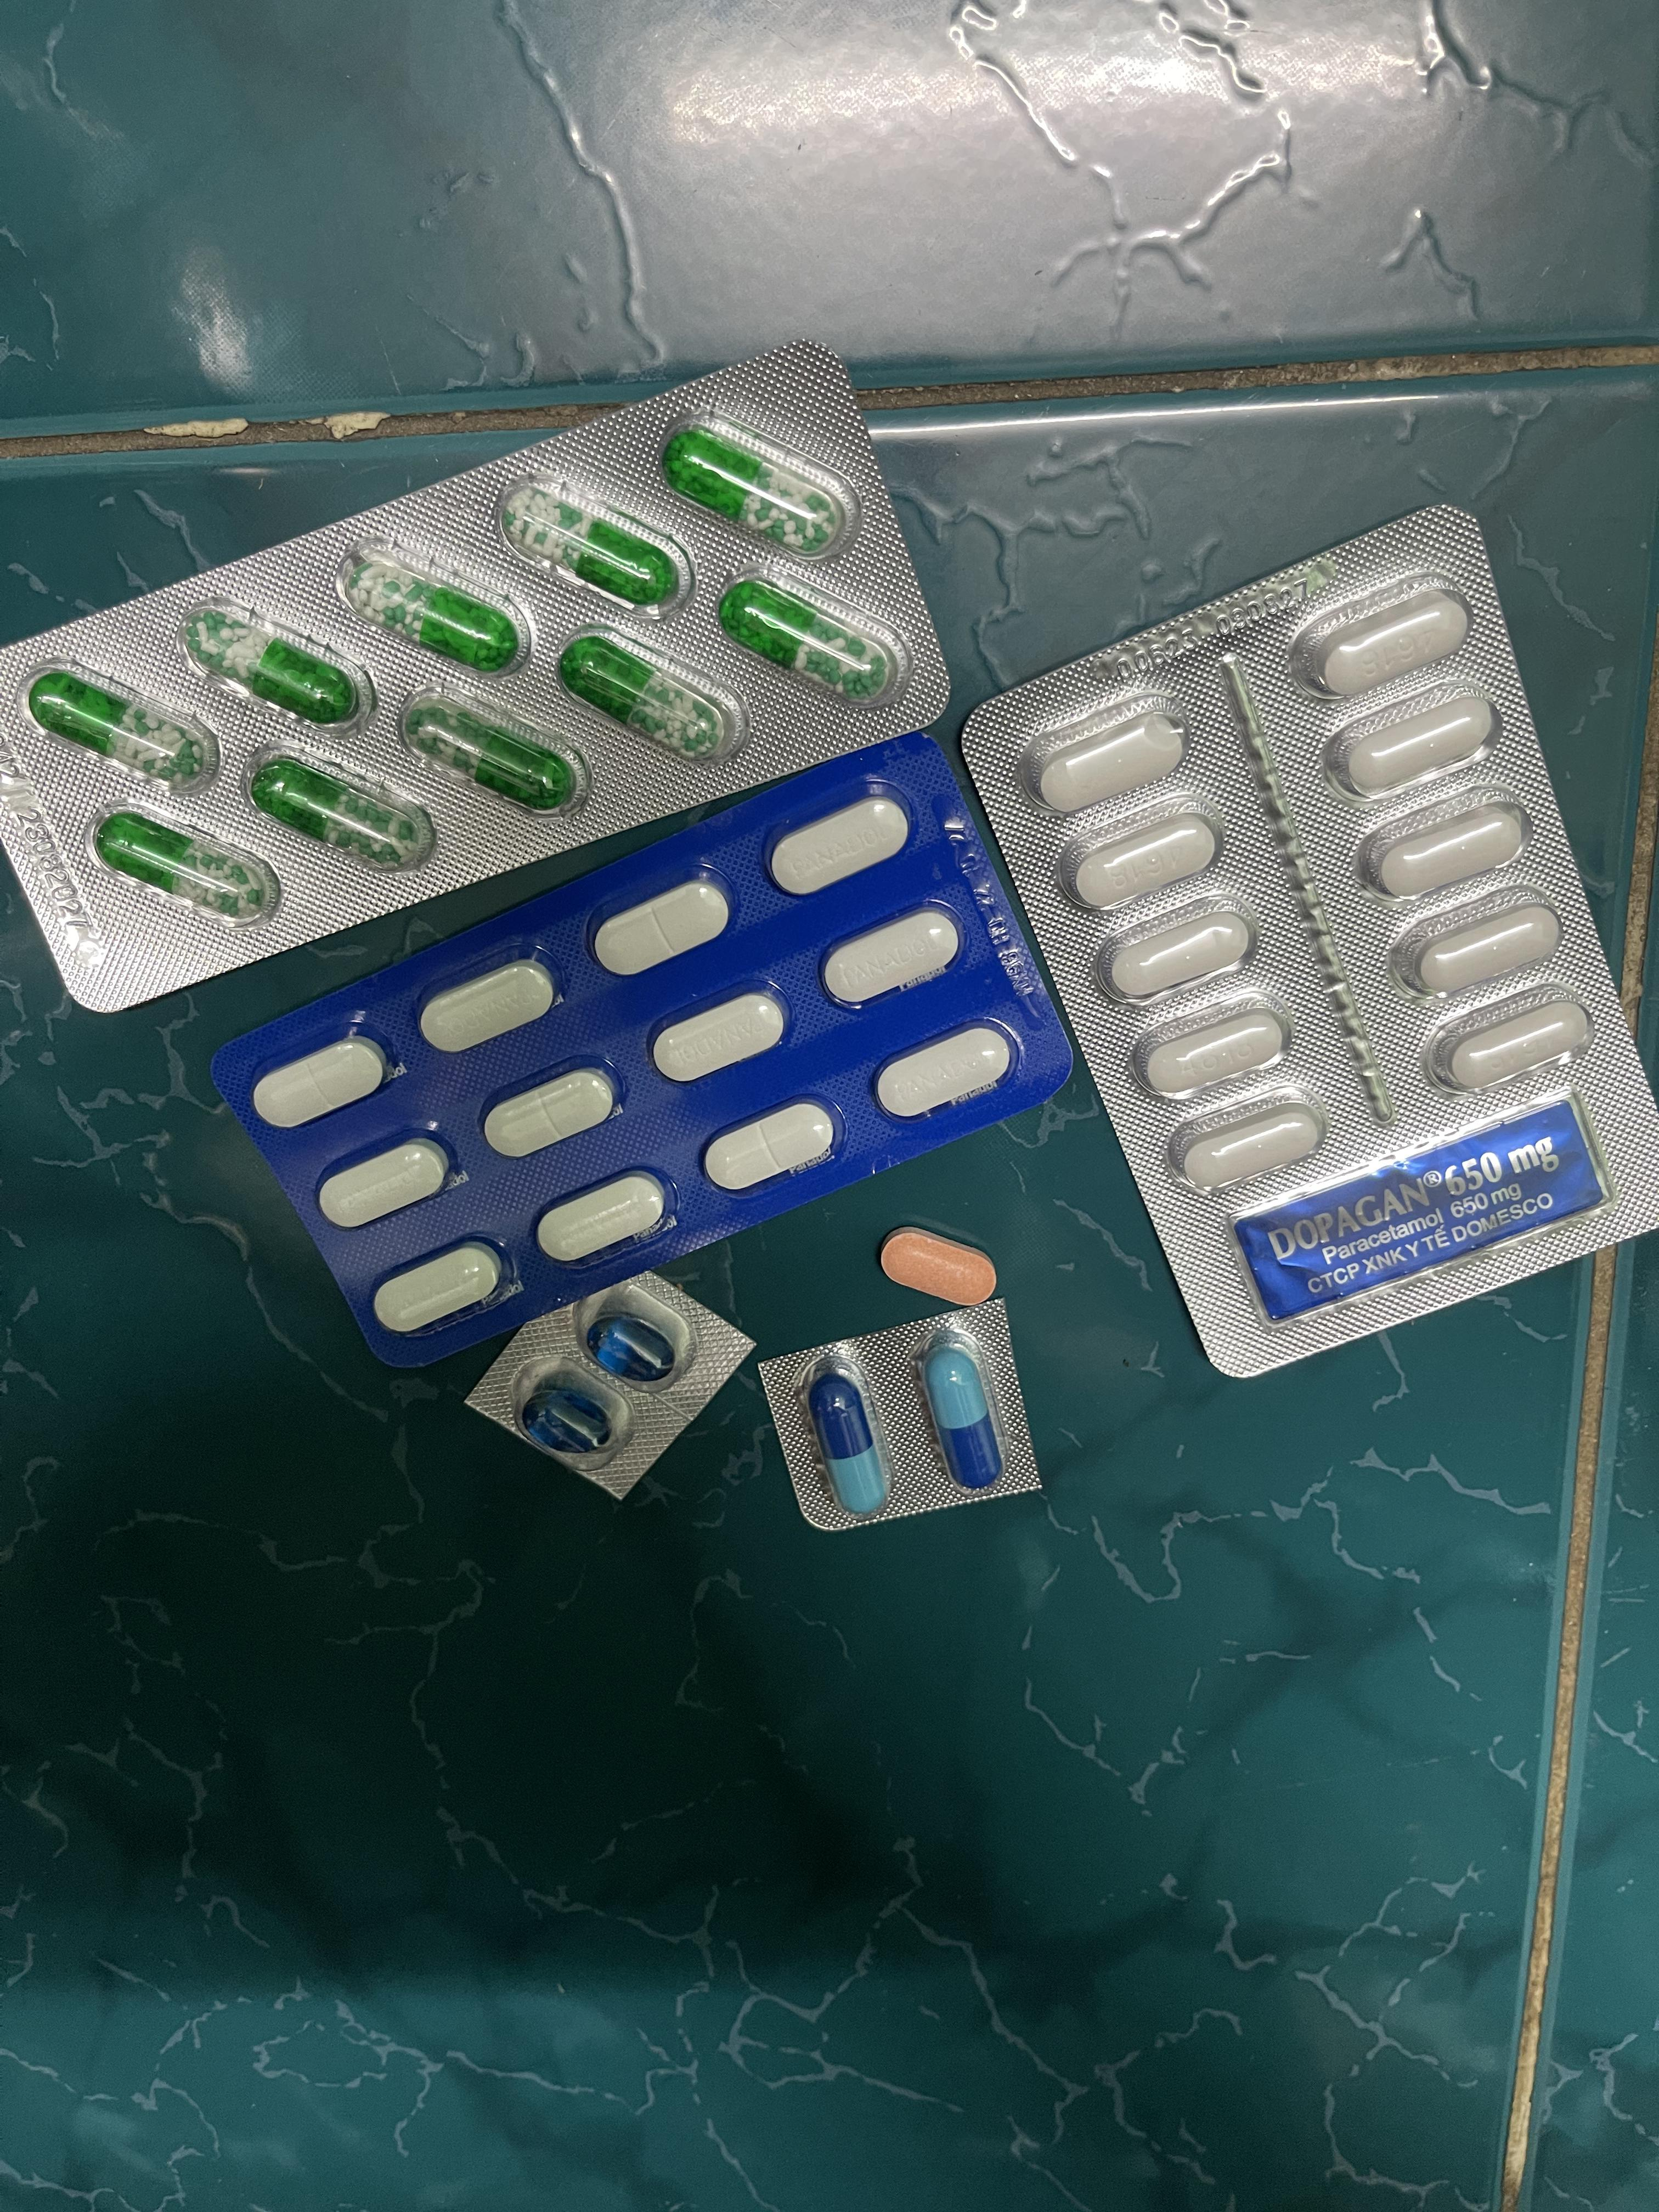Lincomyxin_500mg: (521, 1386, 612, 1454), (587, 1315, 676, 1381)
Loratadine_10mg: (878, 1228, 999, 1306)
Paracetamol_350mg: (819, 906, 965, 1014), (767, 792, 913, 894), (873, 1024, 1018, 1123), (591, 876, 732, 975), (418, 958, 561, 1055), (650, 989, 793, 1087), (251, 1031, 392, 1129), (317, 1136, 455, 1231), (702, 1097, 842, 1191), (371, 1240, 505, 1334), (533, 1172, 667, 1264), (481, 1069, 617, 1158)
Paracetamol_500mg: (1295, 578, 1476, 704), (1385, 880, 1565, 1005), (1323, 679, 1500, 803), (1352, 786, 1535, 904), (1023, 690, 1180, 813), (1427, 988, 1600, 1097), (1096, 888, 1255, 1005), (1066, 801, 1220, 918), (1166, 1087, 1326, 1188), (1143, 1005, 1290, 1097)
Paracetamol_650mg: (502, 475, 702, 618), (716, 570, 901, 707), (30, 662, 220, 794), (666, 425, 843, 556), (92, 812, 284, 928), (556, 631, 734, 756), (247, 752, 434, 869), (342, 556, 521, 676), (192, 615, 362, 728), (408, 705, 570, 810)
pill: (920, 1322, 1006, 1489), (809, 1357, 889, 1517)
